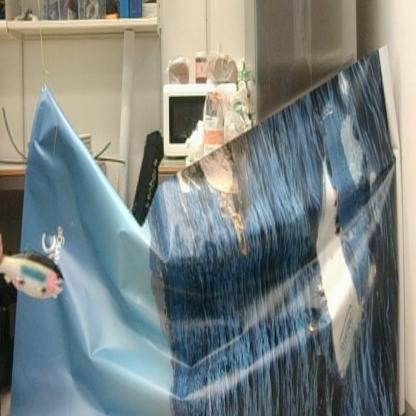rubberfish: (0, 244, 65, 305)
